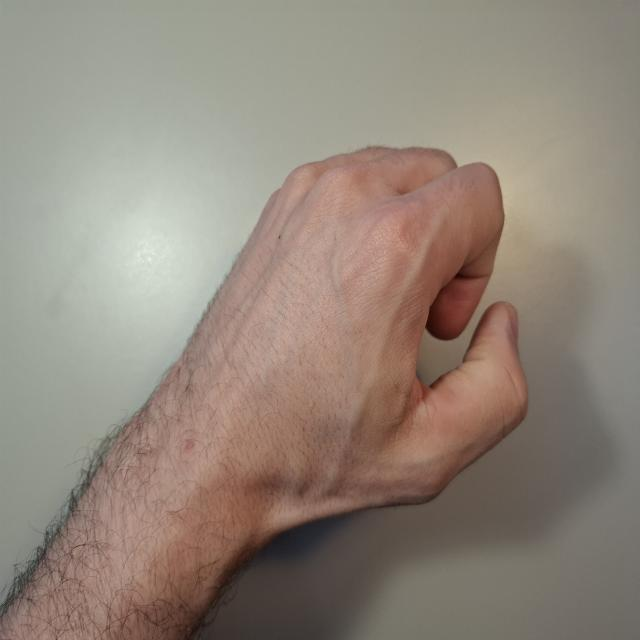glove_off: (167, 139, 531, 537)
